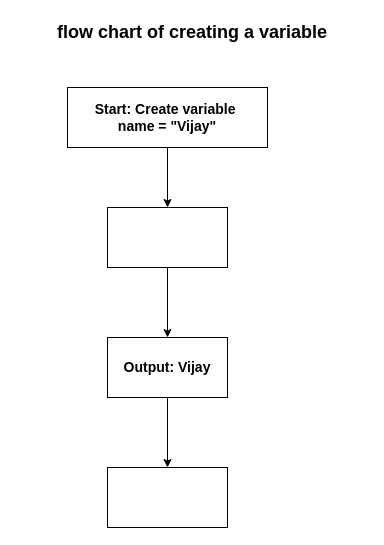
The diagram is 384 pixels wide and 545 high, and some of its shapes have lost their labels. The centre of each missing label's shape, as x and y in pixels:
End: the point at 167,497
Print (name): the point at 167,237
